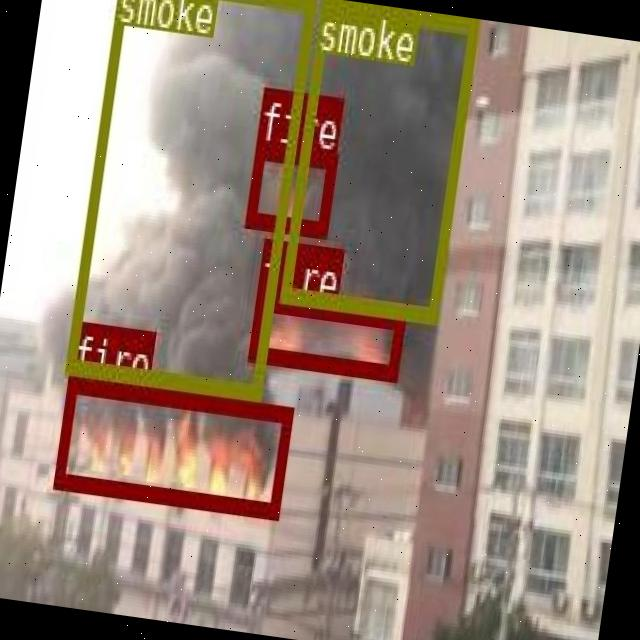fire: (53, 374, 291, 516), (248, 292, 405, 379), (244, 140, 336, 236)
smoke: (63, 0, 315, 399), (278, 0, 477, 319)
